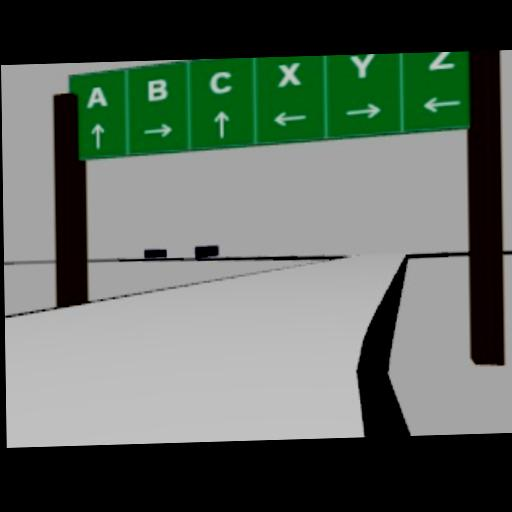A: (86, 85, 107, 107)
B: (145, 76, 168, 101)
C: (209, 68, 234, 93)
Left: (426, 94, 462, 112), (271, 109, 307, 126)
Right: (346, 100, 382, 118), (142, 122, 174, 137)
Straight: (214, 108, 230, 137), (90, 120, 104, 148)
X: (276, 60, 301, 85)
Y: (348, 53, 376, 78)
Z: (426, 50, 456, 68)
